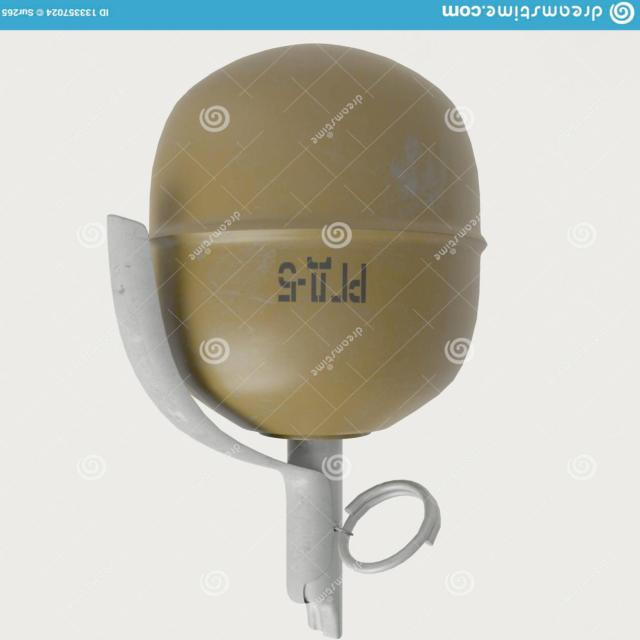grenade: (108, 45, 488, 639)
